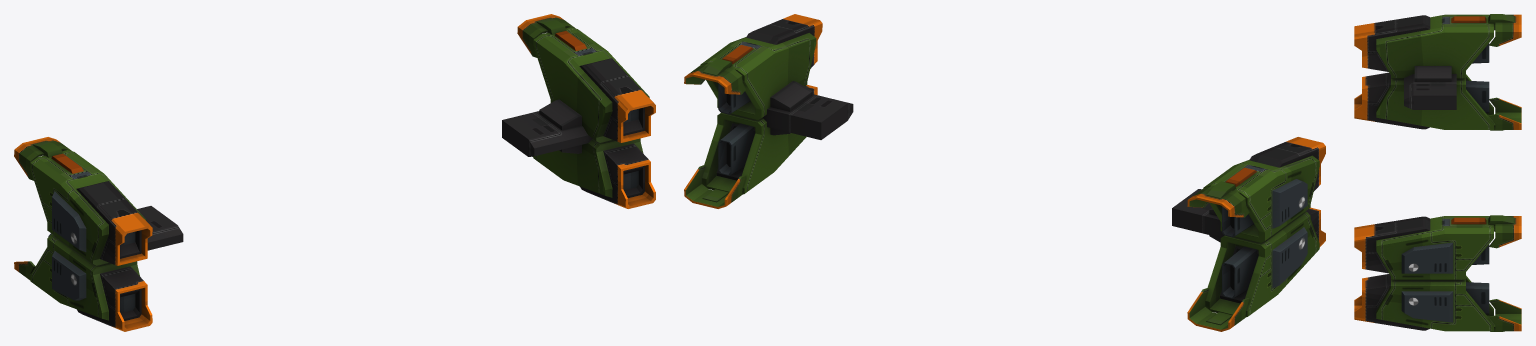
The model's file is Mod-P_blue.FBX.
The picture shows the model from 3 angles, left to right: view 1: azimuth 30°, elevation 25°; view 2: azimuth 150°, elevation 25°; view 3: azimuth 270°, elevation 25°; orthographic projection. The views are drawn at different scales.
Parts seen in each view (by area): view 1: Mod-P_Left, Mod-P_Right; view 2: Mod-P_Right, Mod-P_Left; view 3: Mod-P_Right, Mod-P_Left.
Boxes of the visible parts, box(x1,y1,x2,y2) form: Mod-P_Left: box(502, 14, 655, 208); Mod-P_Right: box(14, 137, 183, 331); Mod-P_Right: box(1172, 137, 1325, 331); Mod-P_Left: box(684, 14, 853, 208); Mod-P_Right: box(1354, 14, 1521, 130); Mod-P_Left: box(1354, 215, 1521, 331).
Bounding box in the file's own units: 17969 × 5694 × 4165.
